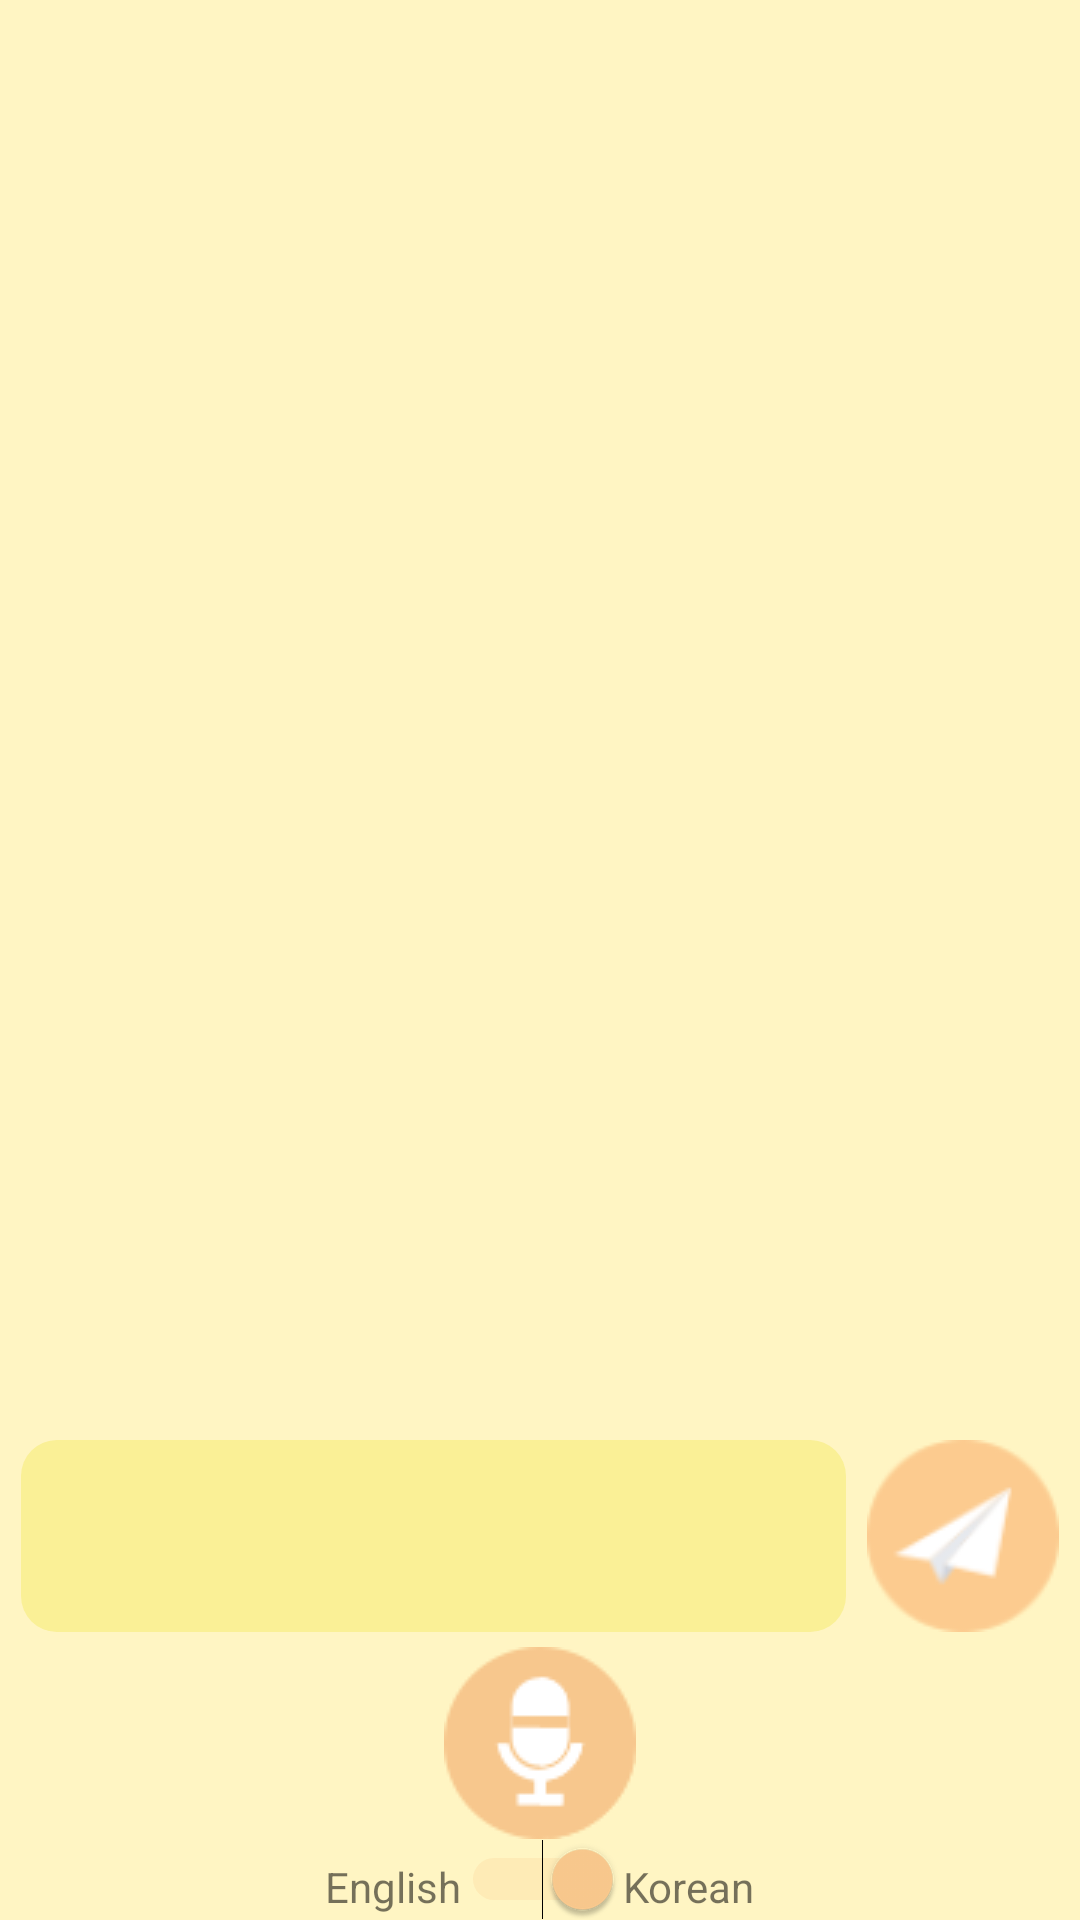

Icon bounding boxes for this 1080px x 1920px phone screenshot, format (x1, y1, x2, y2):
mic: (444, 1647, 636, 1839)
paper: (867, 1440, 1059, 1632)
